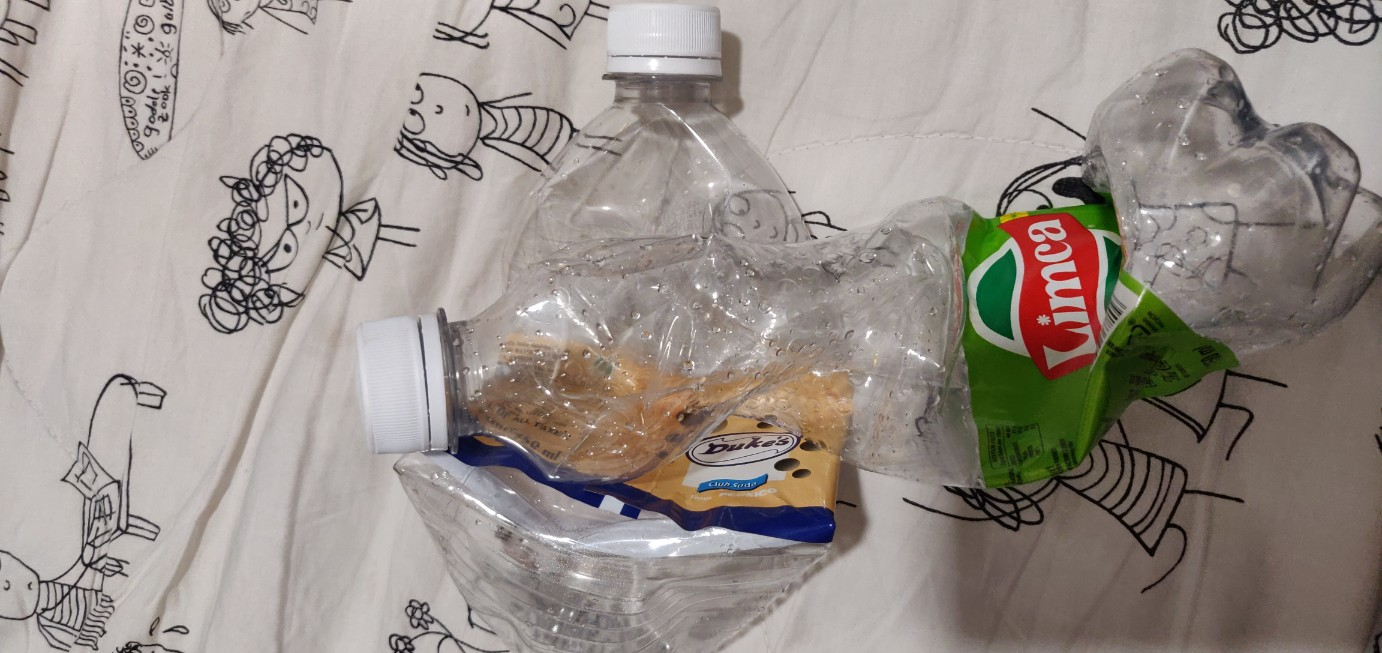Electronics: (326, 35, 1376, 534), (384, 1, 895, 652)
